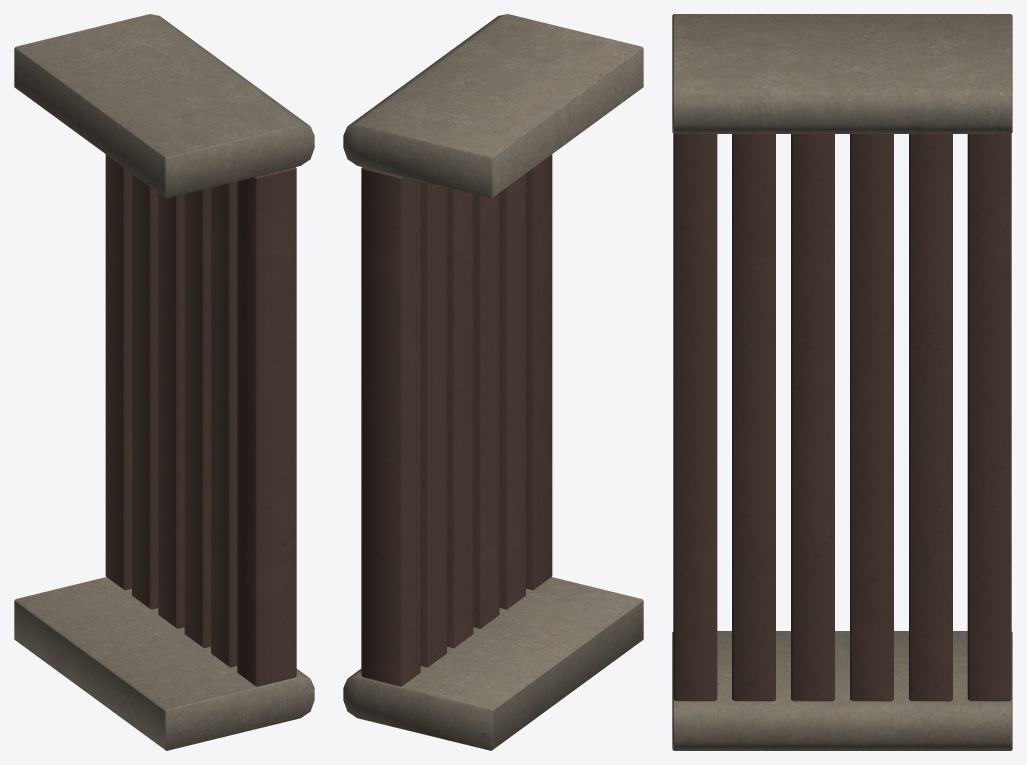
Rendered from cP_Bench07.dae.
3 views of the same model, side by side, from view 1: azimuth 30°, elevation 25°; view 2: azimuth 150°, elevation 25°; view 3: azimuth 270°, elevation 25° (orthographic). The views are drawn at different scales.
Parts seen in each view (by area): view 1: cP_Bench07.001; view 2: cP_Bench07.001; view 3: cP_Bench07.001.
Boxes of the visible parts, box(x1,y1,x2,y2) form: cP_Bench07.001: box(14, 14, 314, 750); cP_Bench07.001: box(343, 14, 643, 750); cP_Bench07.001: box(672, 14, 1012, 750).
Bounding box in the file's own units: 0.5661 × 1 × 2.15.
